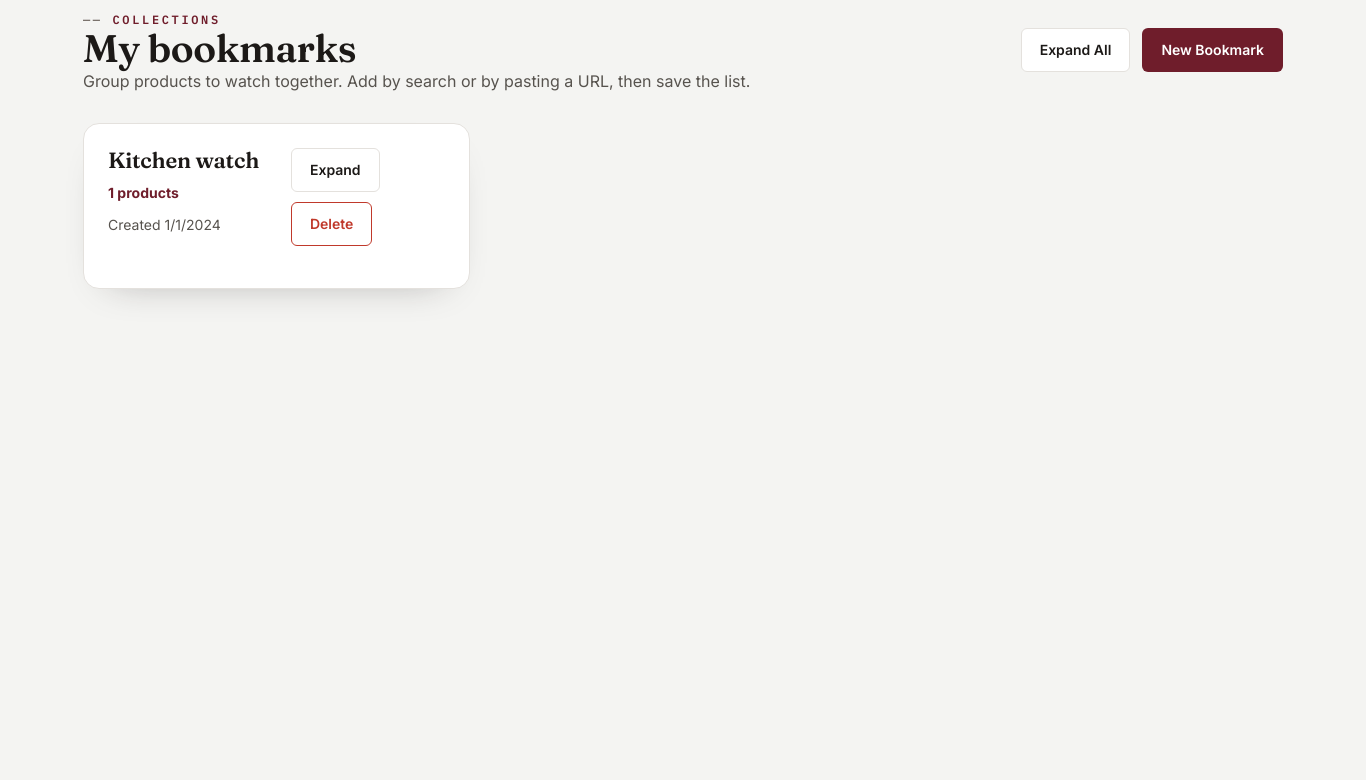
Bookmarks page › lists a bookmarked product with its price and a remove control
Click the button "Expand".
click(335, 170)  # box left=291, top=148, right=380, bottom=192
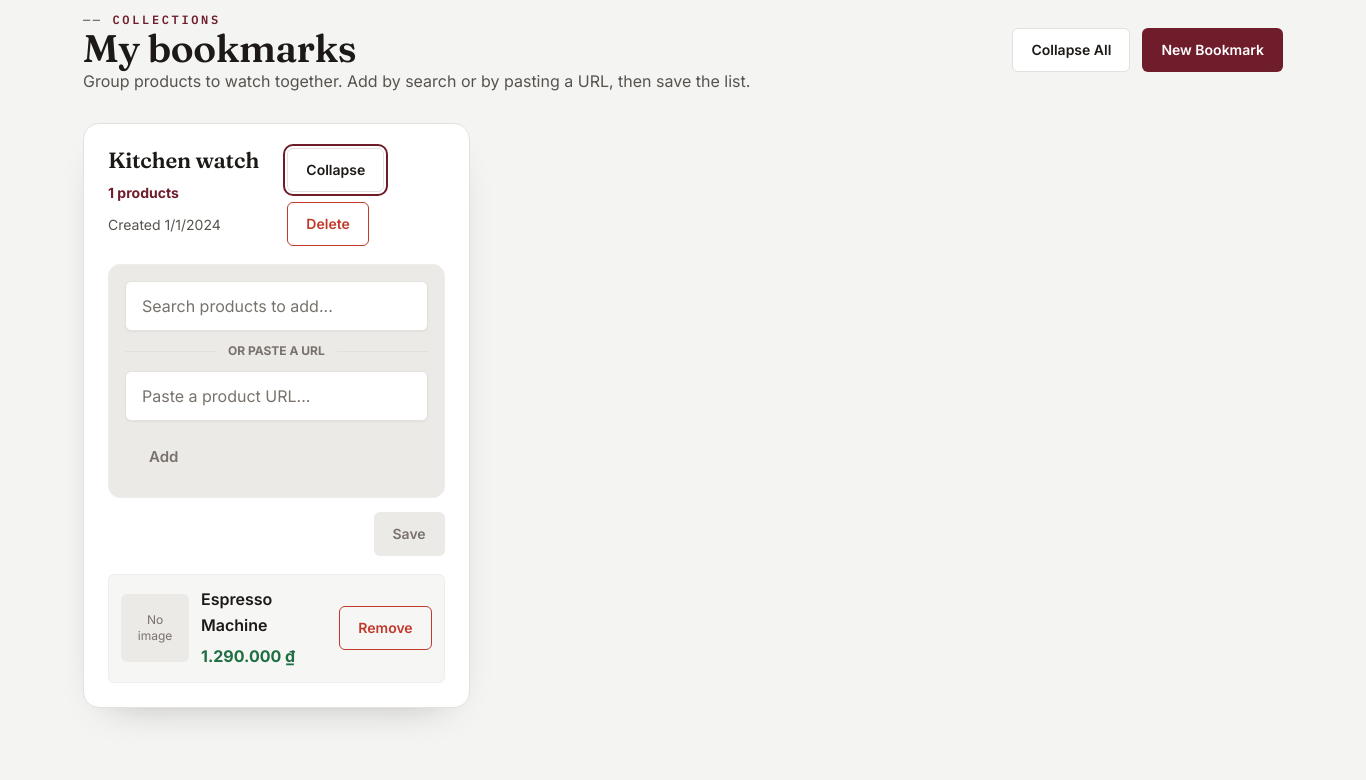
Expected: the text "1.290.000 ₫" is shown, left=201, top=646, right=295, bottom=666
Expected: the text "No image" is shown, left=121, top=594, right=189, bottom=662
Expected: the button "Remove" is shown, left=339, top=606, right=432, bottom=650
